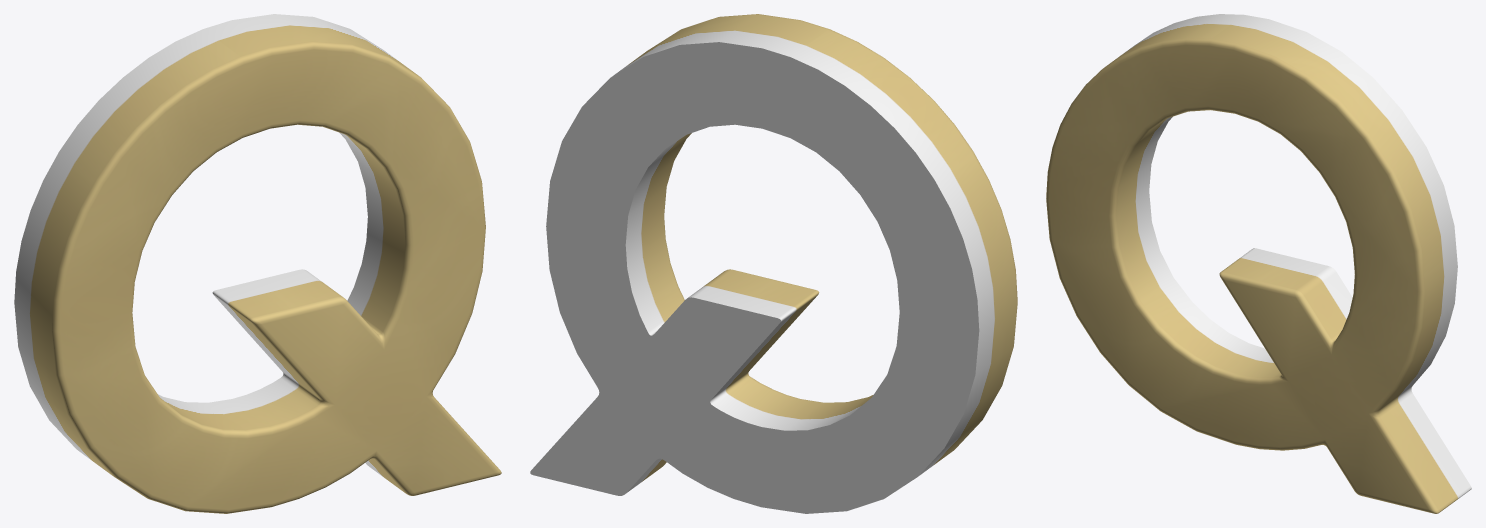
Rendered from LettersLightUp01_Q.FBX.
The picture shows the model from 3 angles, left to right: view 1: azimuth 30°, elevation 25°; view 2: azimuth 150°, elevation 25°; view 3: azimuth 330°, elevation 25°; orthographic projection. The views are drawn at different scales.
Visible parts, largest first — view 1: LettersLightUp01_Q; view 2: LettersLightUp01_Q; view 3: LettersLightUp01_Q.
Boxes of the visible parts, x1,y1,x2,y2 form: LettersLightUp01_Q: (14,14,501,513); LettersLightUp01_Q: (530,14,1017,513); LettersLightUp01_Q: (1046,14,1471,513).
Size of what is drawn, in the model's own units: 0.6453 by 0.6629 by 0.1012.
